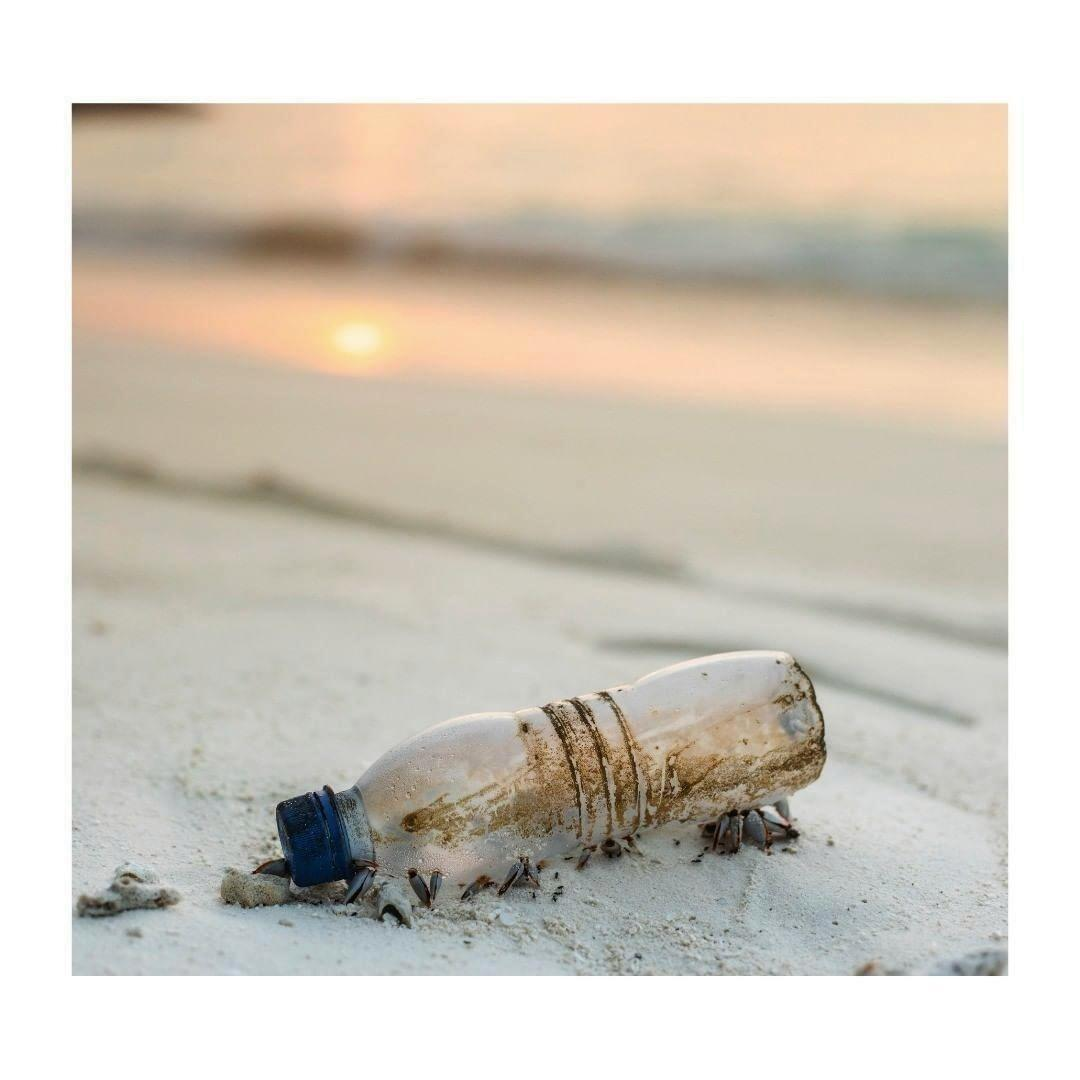bottle-plastic: (268, 638, 834, 908)
